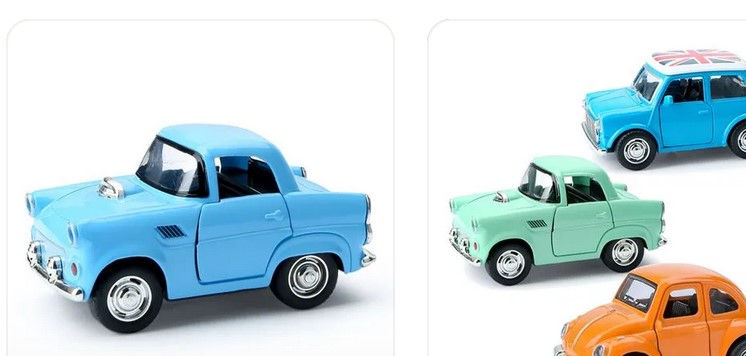car: (25, 123, 377, 334), (449, 157, 670, 286), (581, 48, 746, 170), (554, 264, 746, 356)
